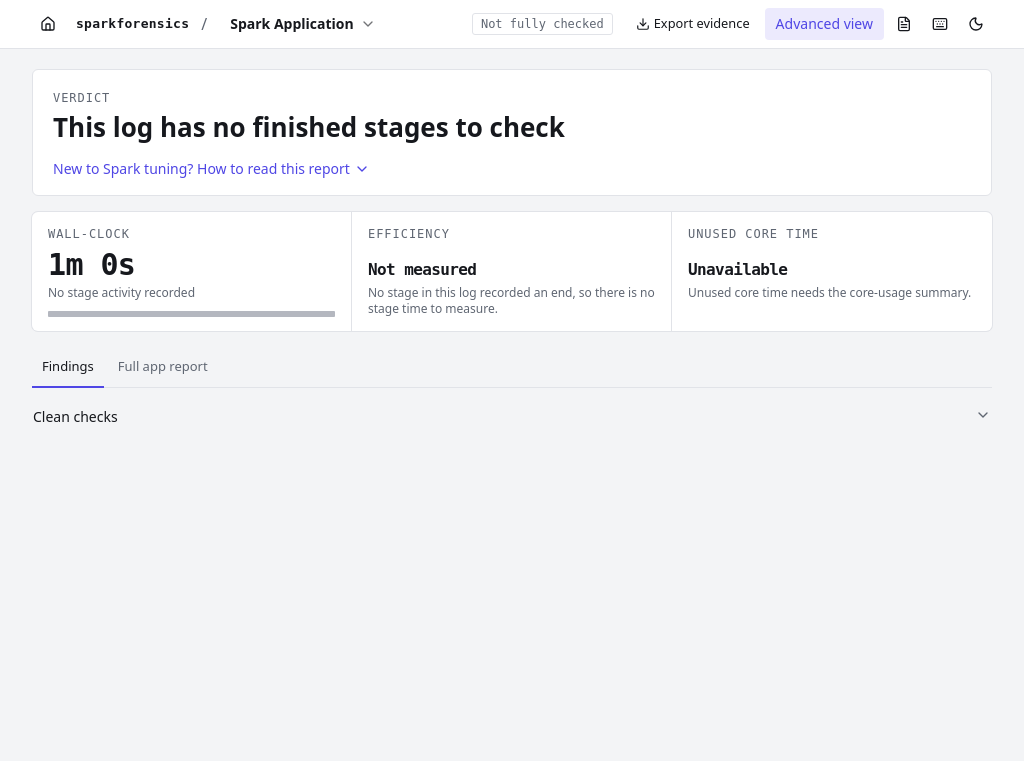
it: renders a terse unavailable card when a legacy model has no ledger
The width and height of the screenshot is (1024, 761).
Click the tab "Full app report" at coordinates (163, 367), box 108,347 -> 218,388
(page scrolled)
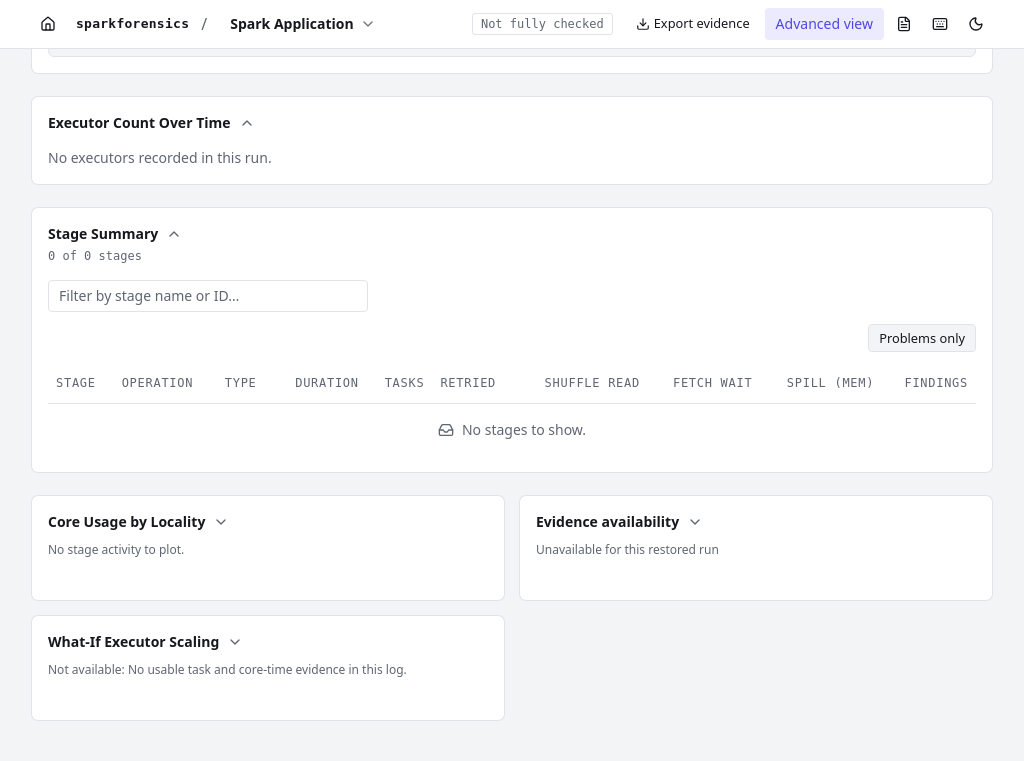
Check: the heading "Evidence availability" is shown, box 536,512 -> 679,532
Click the button "Evidence availability" at coordinates (608, 522), box 536,512 -> 976,532
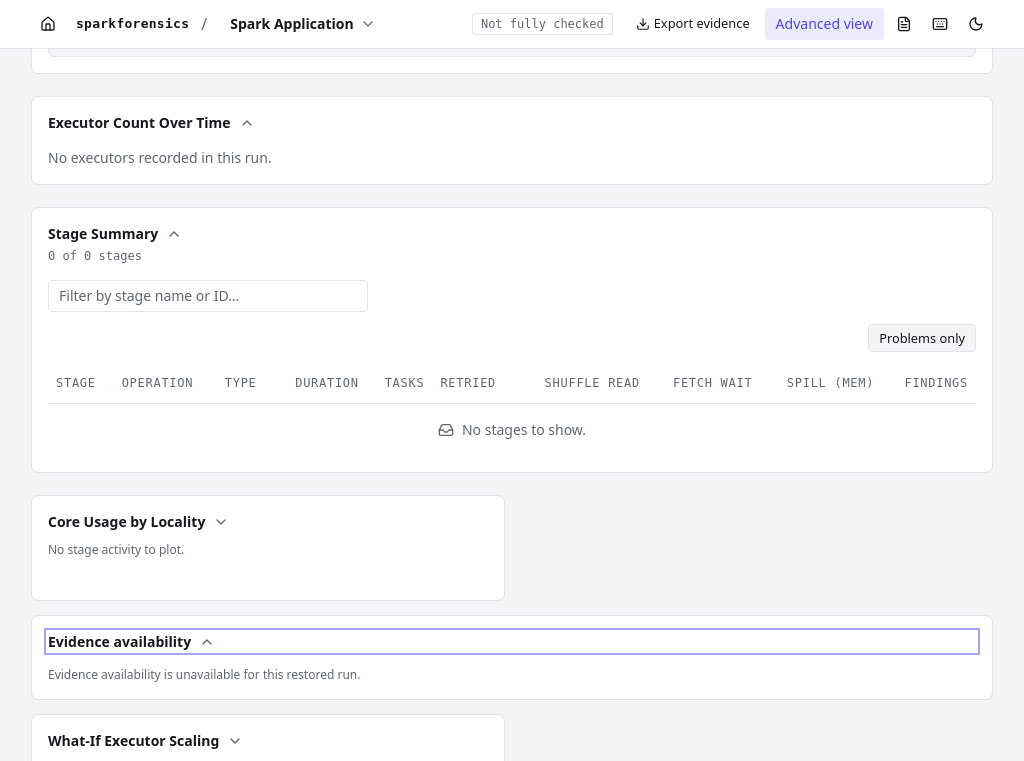
Check: the text "Evidence availability is unavailable for this restored run." is shown, box 48,666 -> 360,683
